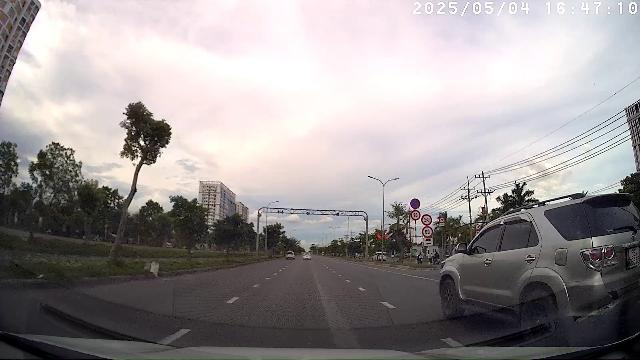127-toc-do-toi-da-60: (422, 226, 433, 238)
127-toc-do-toi-da-80: (410, 210, 421, 220)
130-cam-dung-va-do-xe: (410, 198, 421, 209)
